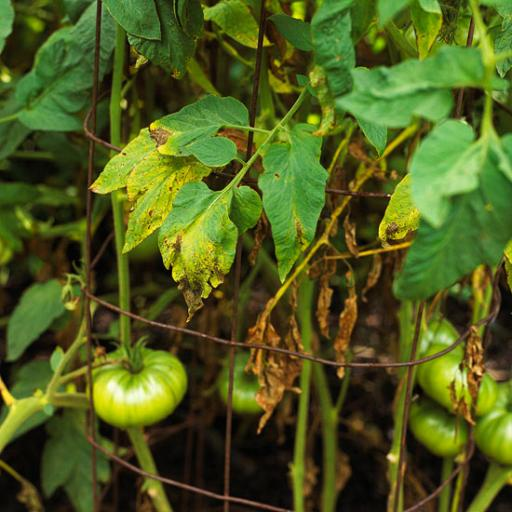Septoria: (258, 122, 330, 286), (156, 186, 238, 318), (122, 149, 212, 259), (147, 92, 251, 157), (84, 124, 157, 196), (377, 172, 420, 252)
